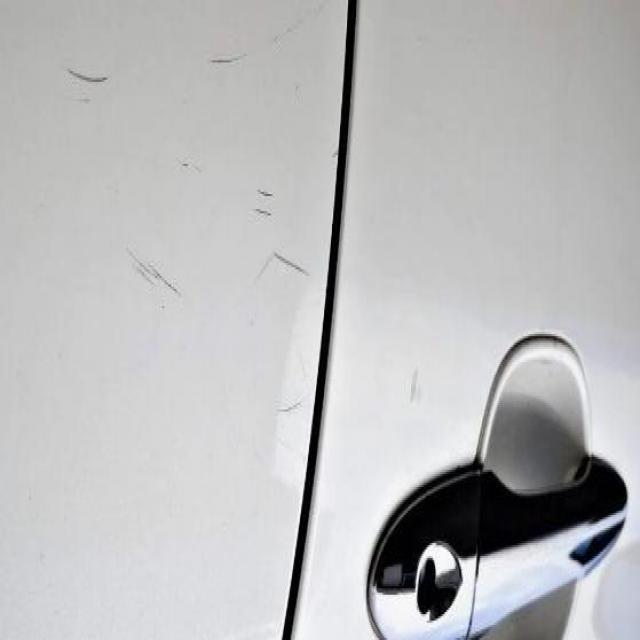scratch: (116, 228, 191, 314), (58, 51, 126, 106), (265, 242, 317, 298), (201, 43, 255, 84), (243, 170, 280, 226)
